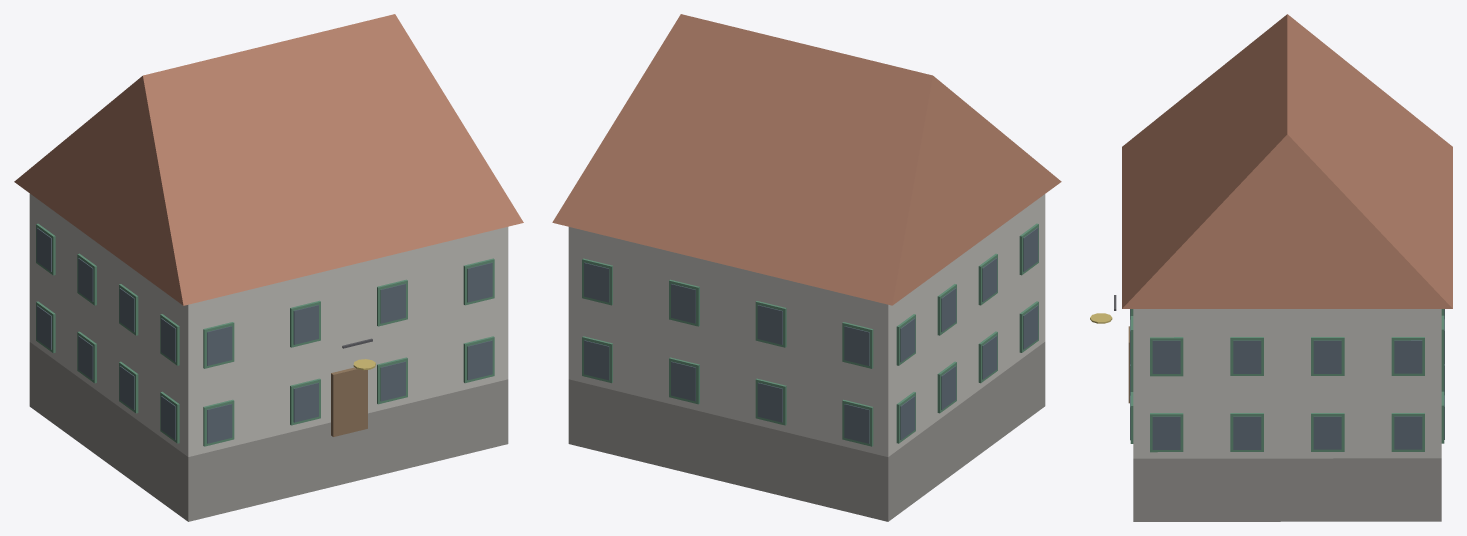
The model's file is landmark-inn-pfaffen-keller.glb.
The picture shows the model from 3 angles, left to right: view 1: azimuth 30°, elevation 25°; view 2: azimuth 150°, elevation 25°; view 3: azimuth 270°, elevation 25°; orthographic projection. The views are drawn at different scales.
Parts seen in each view (by area): view 1: building; view 2: building; view 3: building.
Part boxes in pixels (left/top/right/bottom): building: left=14, top=14, right=523, bottom=521; building: left=552, top=14, right=1061, bottom=521; building: left=1090, top=14, right=1452, bottom=521.
Bounding box in the file's own units: 13.74 × 14.68 × 13.
